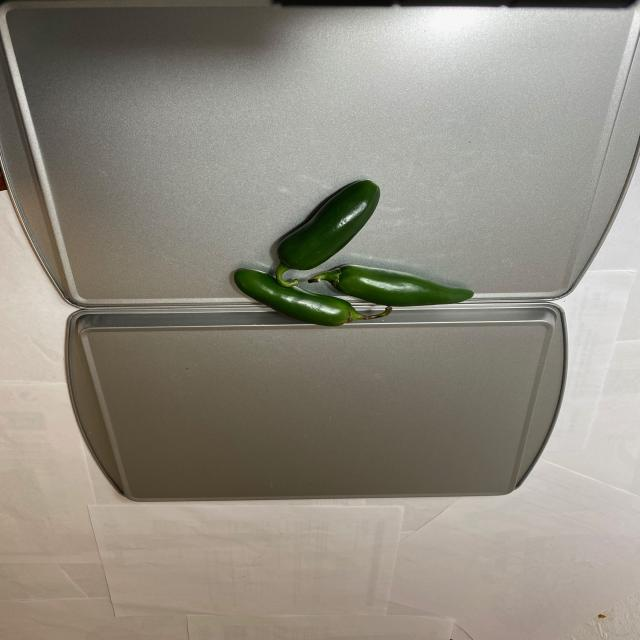chilli: (218, 174, 480, 330)
